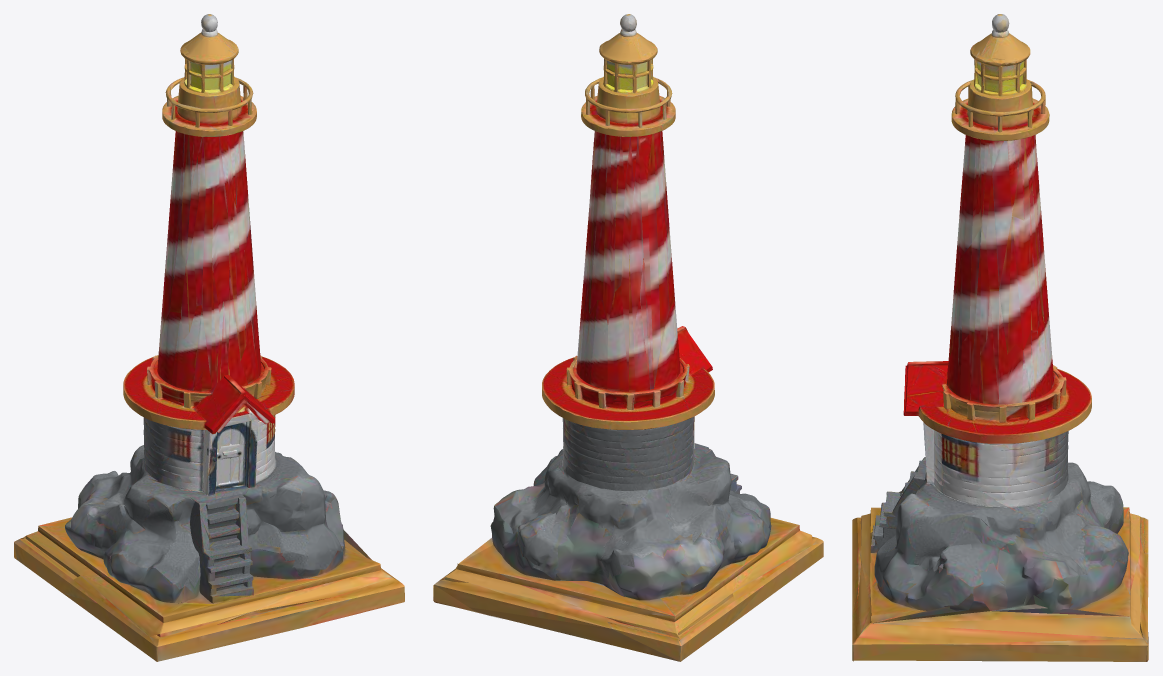
The model's file is lm_harbor_lighthouse.glb.
3 views of the same model, side by side, from view 1: azimuth 30°, elevation 25°; view 2: azimuth 150°, elevation 25°; view 3: azimuth 270°, elevation 25° (orthographic). The views are drawn at different scales.
Size of the model in its own units: 0.8731 by 1.9 by 0.8725.
Materials: 1 (1 with a texture image).
